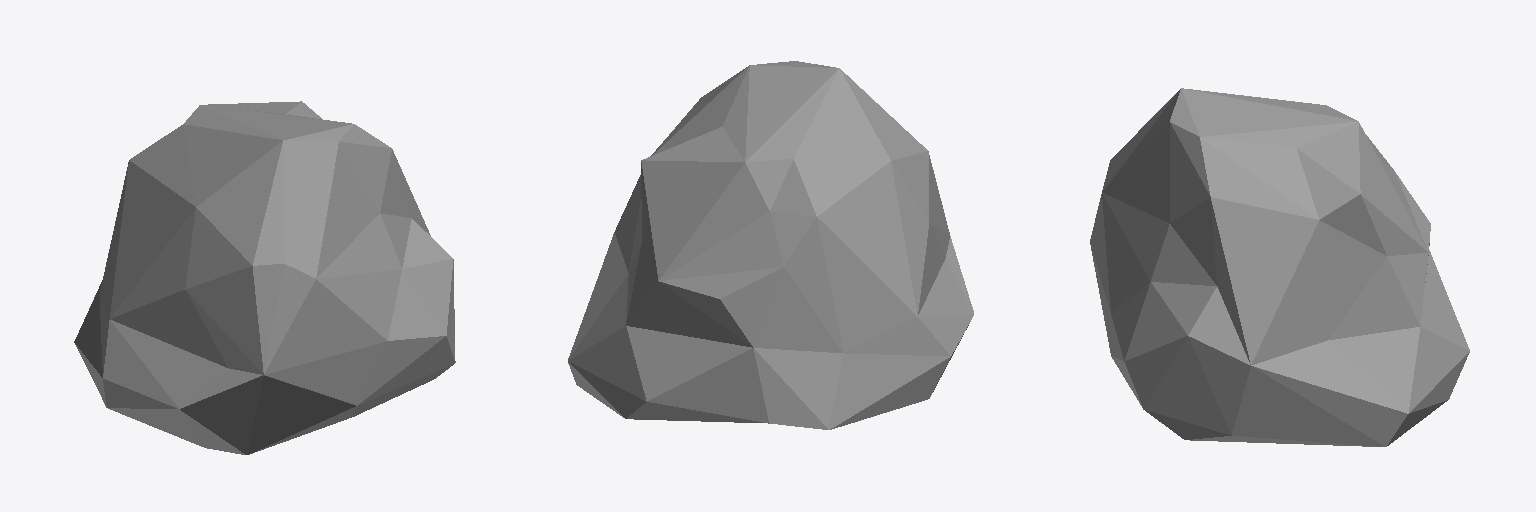
Rendered from rock1.003.obj.
The picture shows the model from 3 angles: view 1: azimuth 30°, elevation 25°; view 2: azimuth 150°, elevation 25°; view 3: azimuth 270°, elevation 25°; orthographic projection.
Parts seen in each view (by area): view 1: rock1.003_Cube.051; view 2: rock1.003_Cube.051; view 3: rock1.003_Cube.051.
Part boxes in pixels (left/top/right/bottom): rock1.003_Cube.051: left=74, top=101, right=455, bottom=454; rock1.003_Cube.051: left=568, top=61, right=973, bottom=429; rock1.003_Cube.051: left=1090, top=88, right=1469, bottom=446.
Bounding box in the file's own units: 267 × 239 × 262.